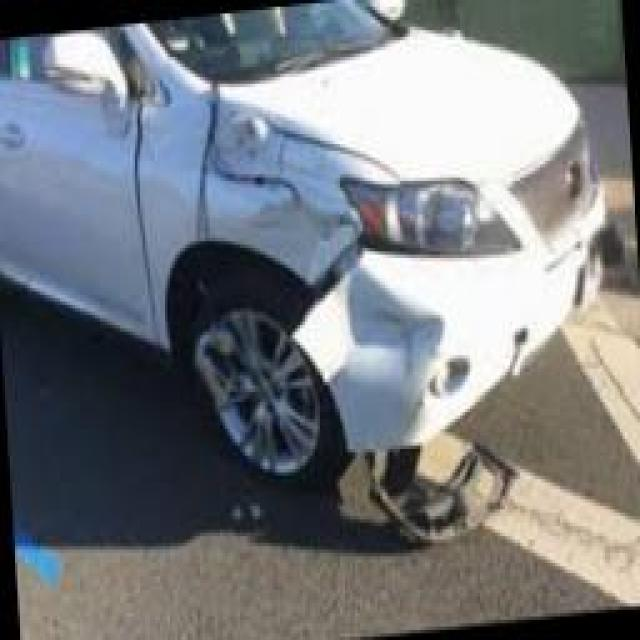Bumper: (288, 246, 520, 527)
Fender: (139, 90, 393, 286)
